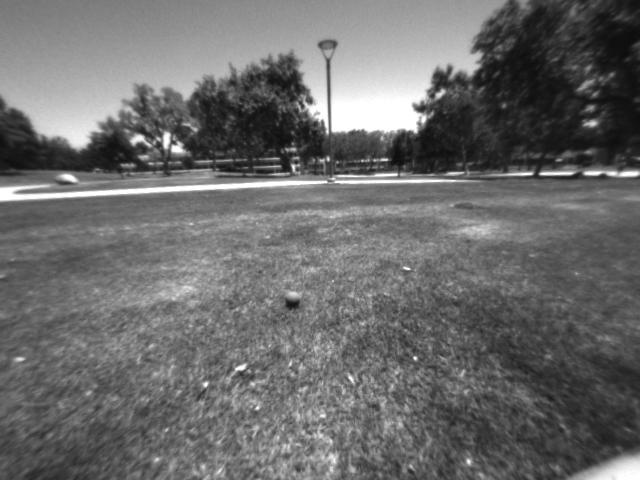dogtoy: (276, 283, 309, 313)
